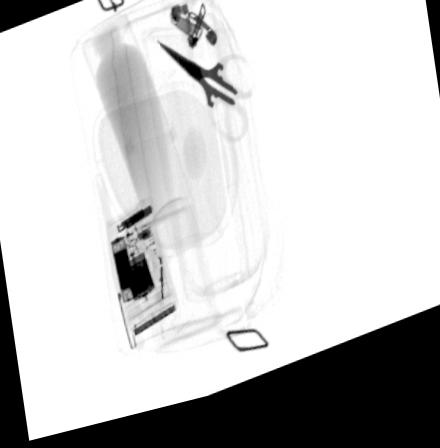Scissors: (156, 52, 257, 154)
